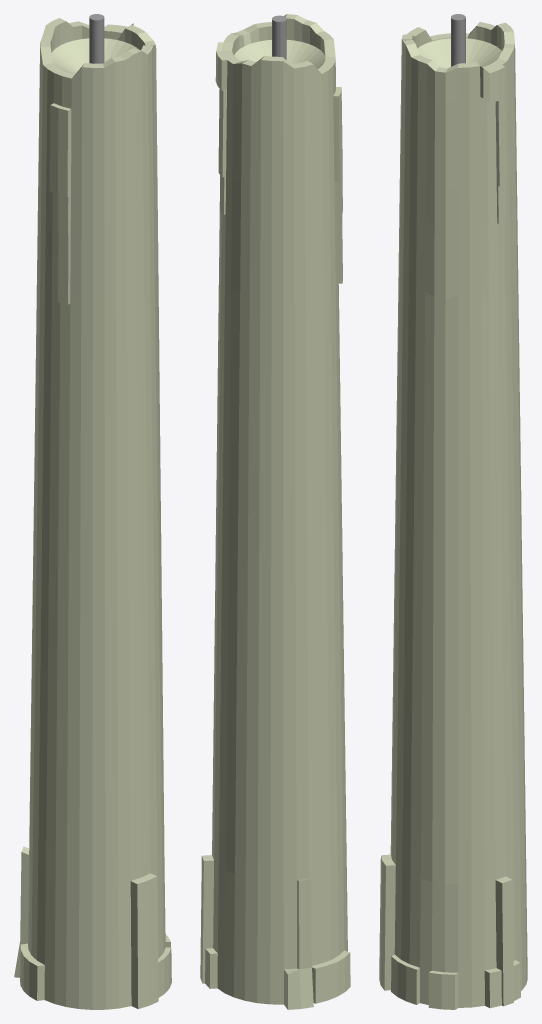
File: CandleHolder_Prot_0.2_CandlesLit.fbx
3 views of the same model, side by side, from view 1: azimuth 30°, elevation 25°; view 2: azimuth 150°, elevation 25°; view 3: azimuth 270°, elevation 25° (orthographic).
Parts seen in each view (by area): view 1: Cylinder.026, Cylinder.025; view 2: Cylinder.026, Cylinder.025; view 3: Cylinder.026, Cylinder.025.
Boxes of the visible parts, left/top/right/bottom form: Cylinder.026: left=14, top=18, right=171, bottom=1009; Cylinder.025: left=89, top=14, right=104, bottom=63; Cylinder.026: left=200, top=14, right=350, bottom=1009; Cylinder.025: left=272, top=15, right=286, bottom=59; Cylinder.026: left=379, top=22, right=527, bottom=1009; Cylinder.025: left=451, top=14, right=465, bottom=66.
Bounding box in the file's own units: 27.11 × 190 × 26.64.
